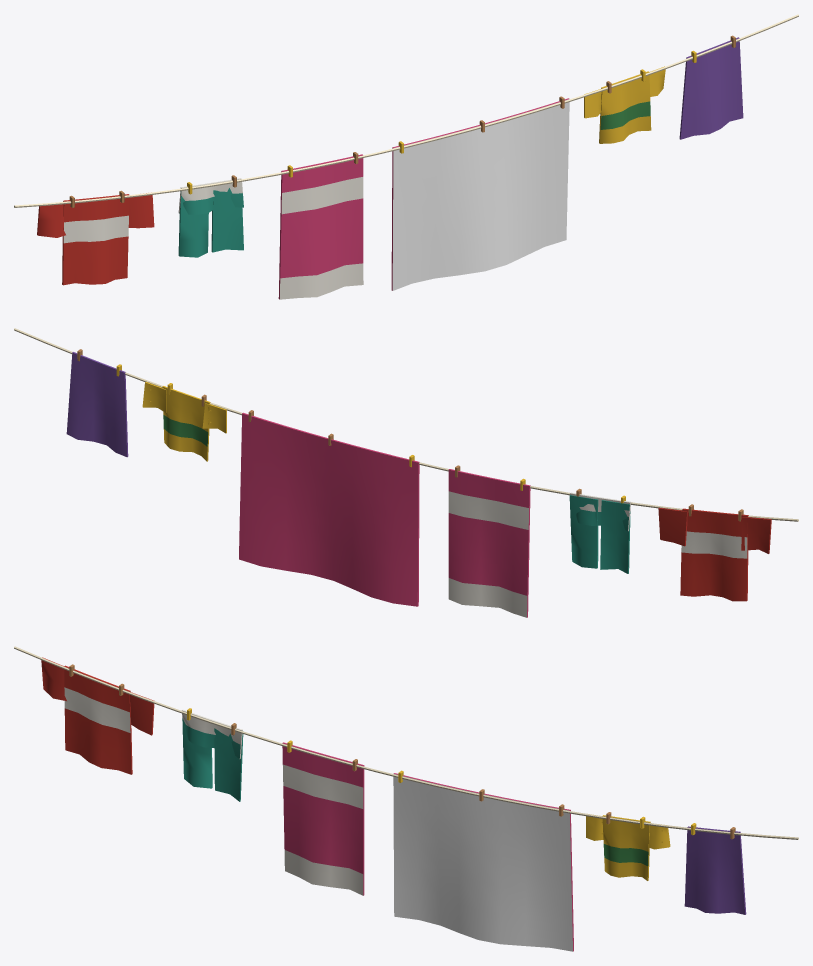
File: prop_laundry_line_6m.glb
The picture shows the model from 3 angles, top to bottom: view 1: azimuth 30°, elevation 25°; view 2: azimuth 150°, elevation 25°; view 3: azimuth 330°, elevation 25°; orthographic projection.
Visible parts, largest first — view 1: prop_laundry_line_6m; view 2: prop_laundry_line_6m; view 3: prop_laundry_line_6m.
Boxes of the visible parts, <box> form: prop_laundry_line_6m: <box>14,14,798,299</box>; prop_laundry_line_6m: <box>14,328,798,617</box>; prop_laundry_line_6m: <box>14,646,798,951</box>.
Bounding box in the file's own units: 6 × 1.31 × 0.1065.
